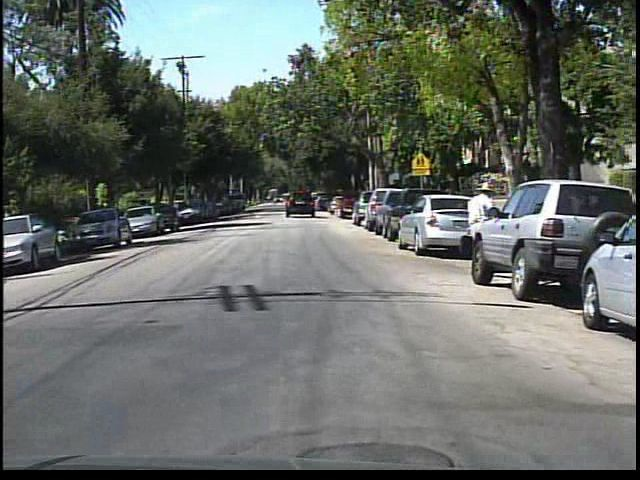person: (455, 179, 498, 283)
